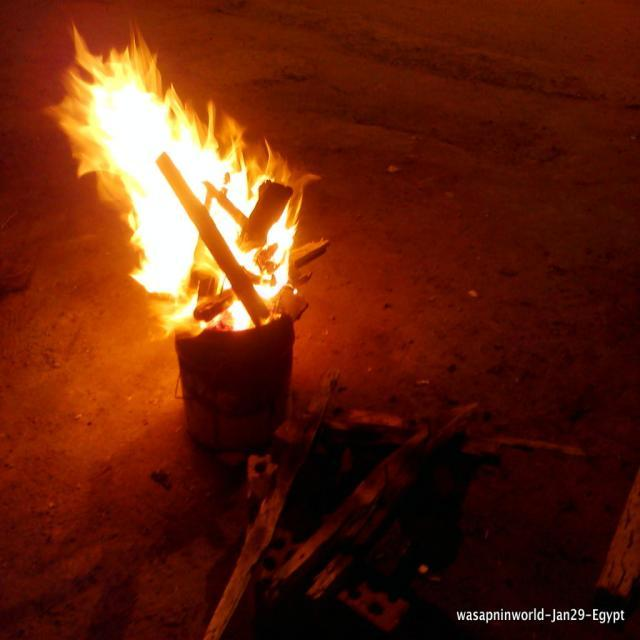Fire: (59, 17, 308, 330)
